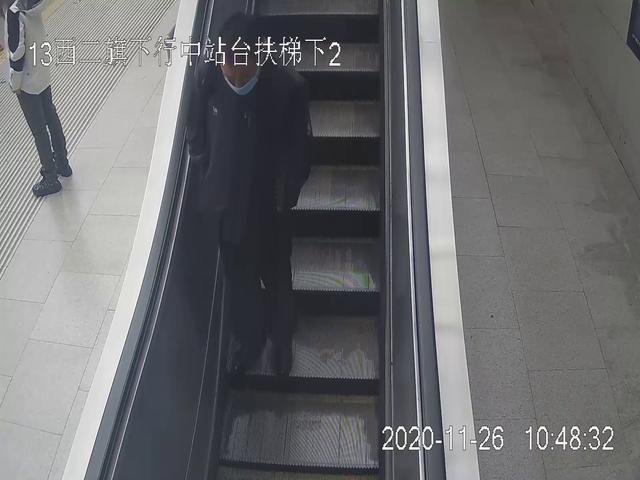person: (189, 12, 310, 371), (1, 1, 77, 197)
